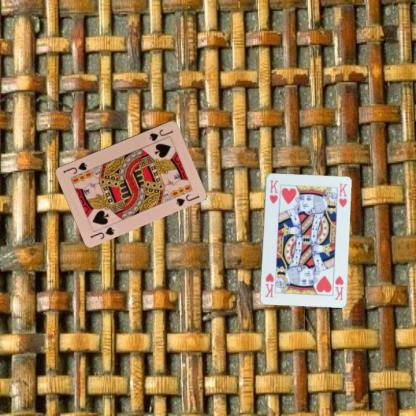Js: (88, 224, 115, 240), (147, 127, 174, 142)
Kh: (267, 178, 279, 204), (333, 273, 344, 301)
